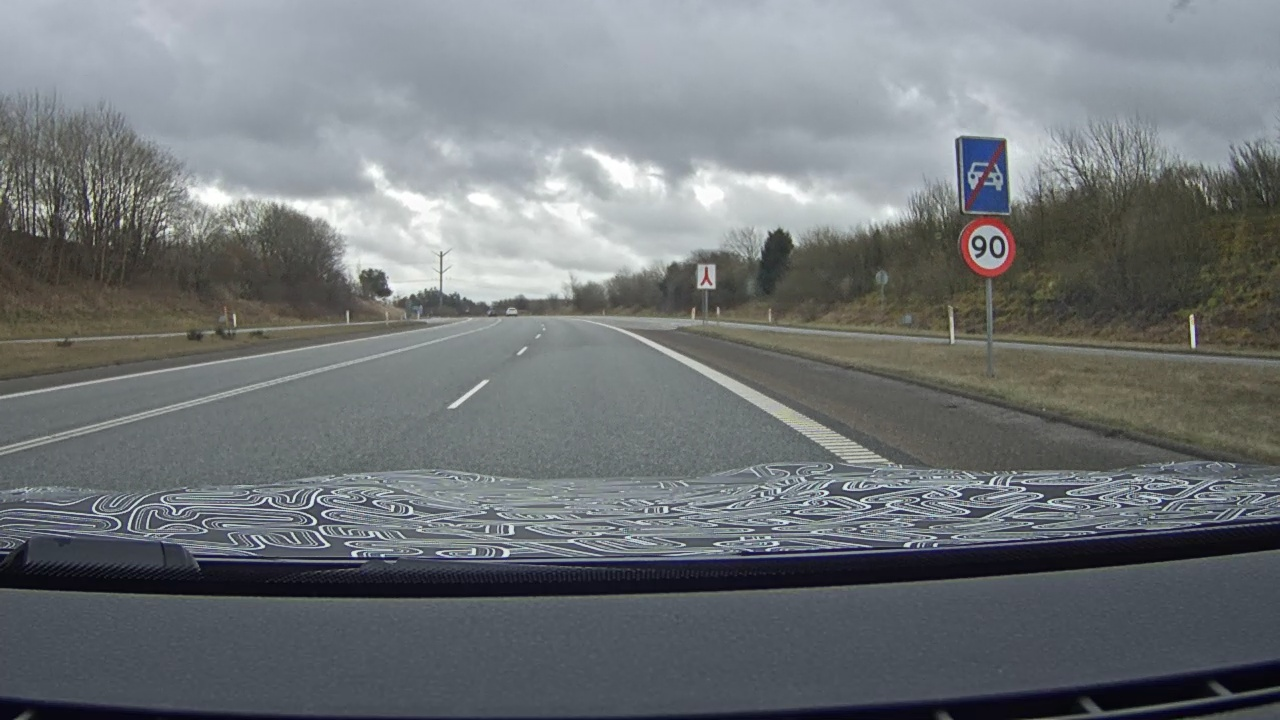Expressway_End: (954, 134, 1012, 216)
